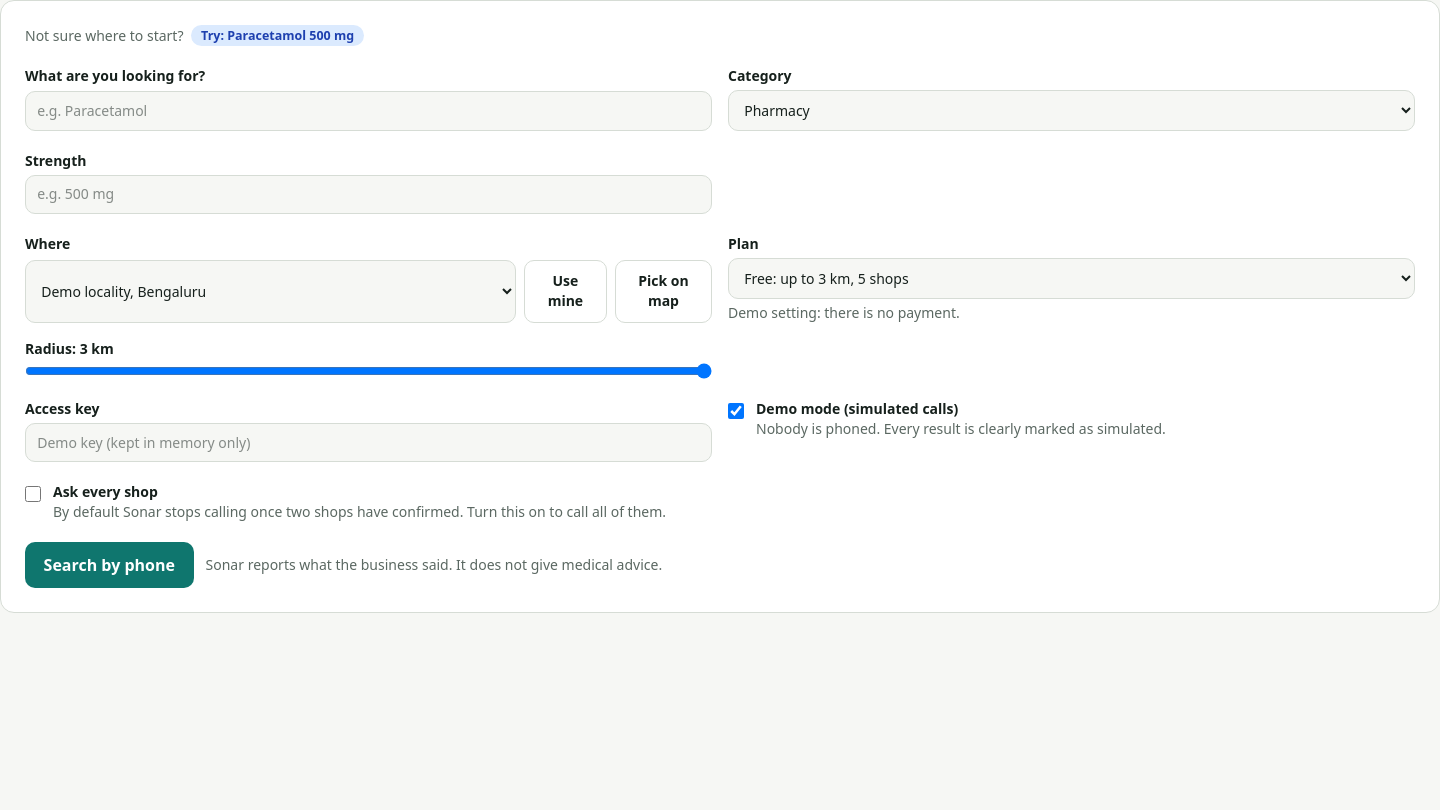
Test: SearchForm › asks for the essential attributes of the chosen category
Expected: the field labelled "strength" is shown, [25, 175, 712, 214]
Select "Repair" in the dropdown labelled "Category" at (1072, 110), box [728, 90, 1415, 131]
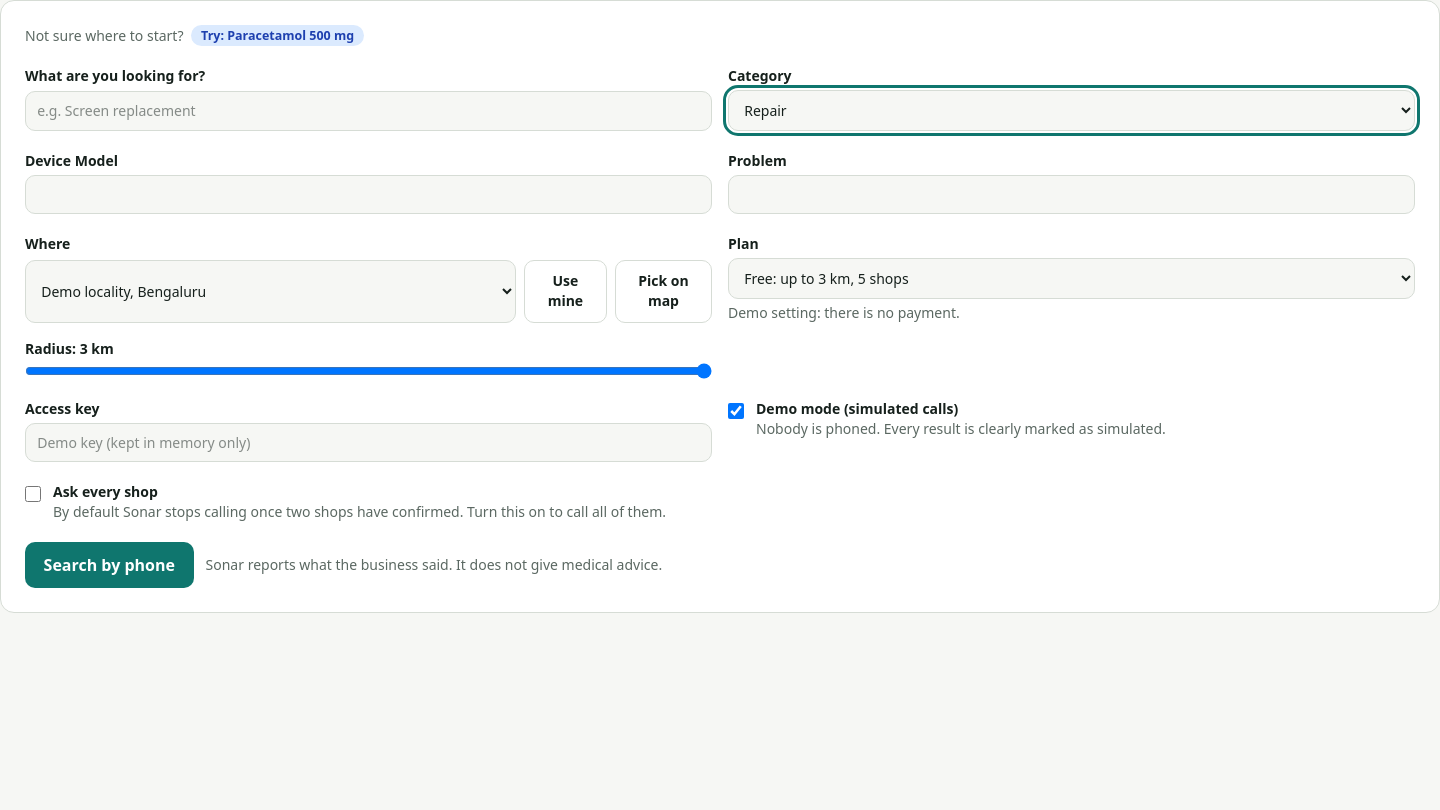
Expected: the field labelled "device model" is shown, [25, 175, 712, 214]
Expected: the text labelled "strength" is gone
